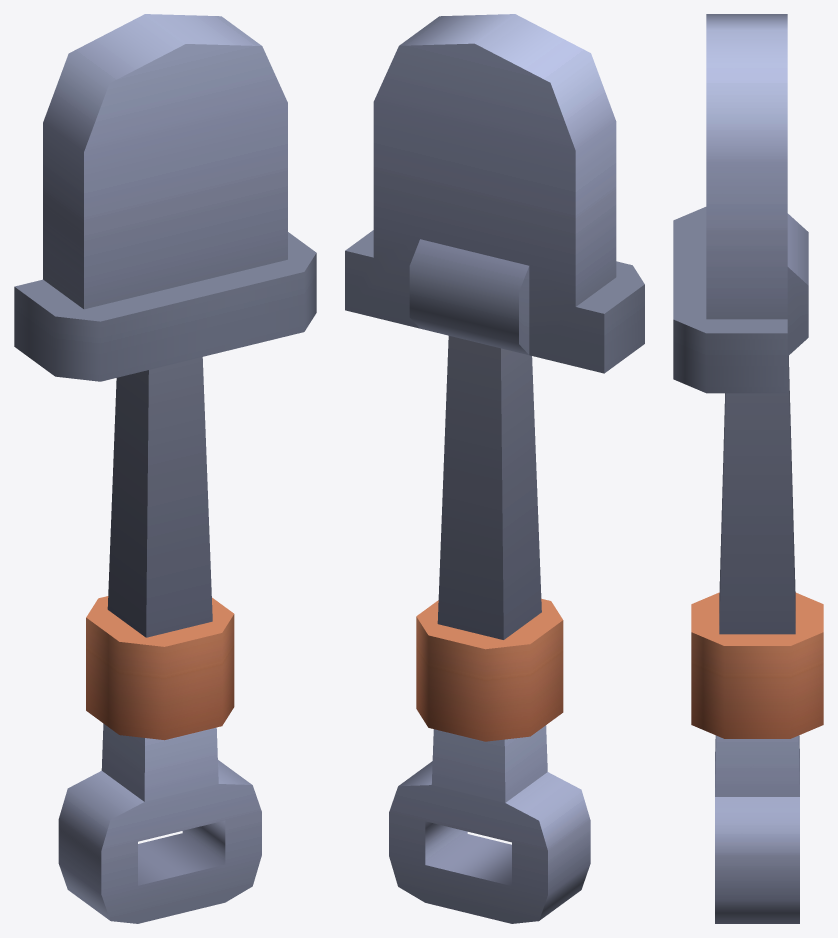
Rendered from tool-shovel-upgraded.glb.
3 views of the same model, side by side, from view 1: azimuth 30°, elevation 25°; view 2: azimuth 150°, elevation 25°; view 3: azimuth 270°, elevation 25° (orthographic).
Parts seen in each view (by area): view 1: tool-shovel-upgraded; view 2: tool-shovel-upgraded; view 3: tool-shovel-upgraded.
Boxes of the visible parts, x1,y1,x2,y2 form: tool-shovel-upgraded: (14, 14, 316, 923); tool-shovel-upgraded: (345, 14, 644, 923); tool-shovel-upgraded: (673, 14, 823, 923).
Bounding box in the file's own units: 0.0909 × 0.29 × 0.0455.
1 material, 1 textured.
